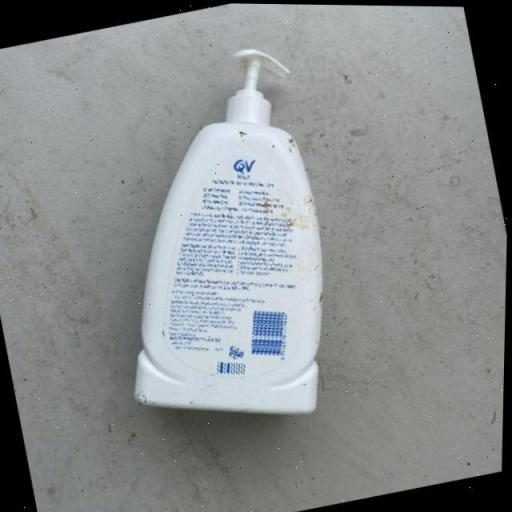plastic: (67, 36, 363, 448)
